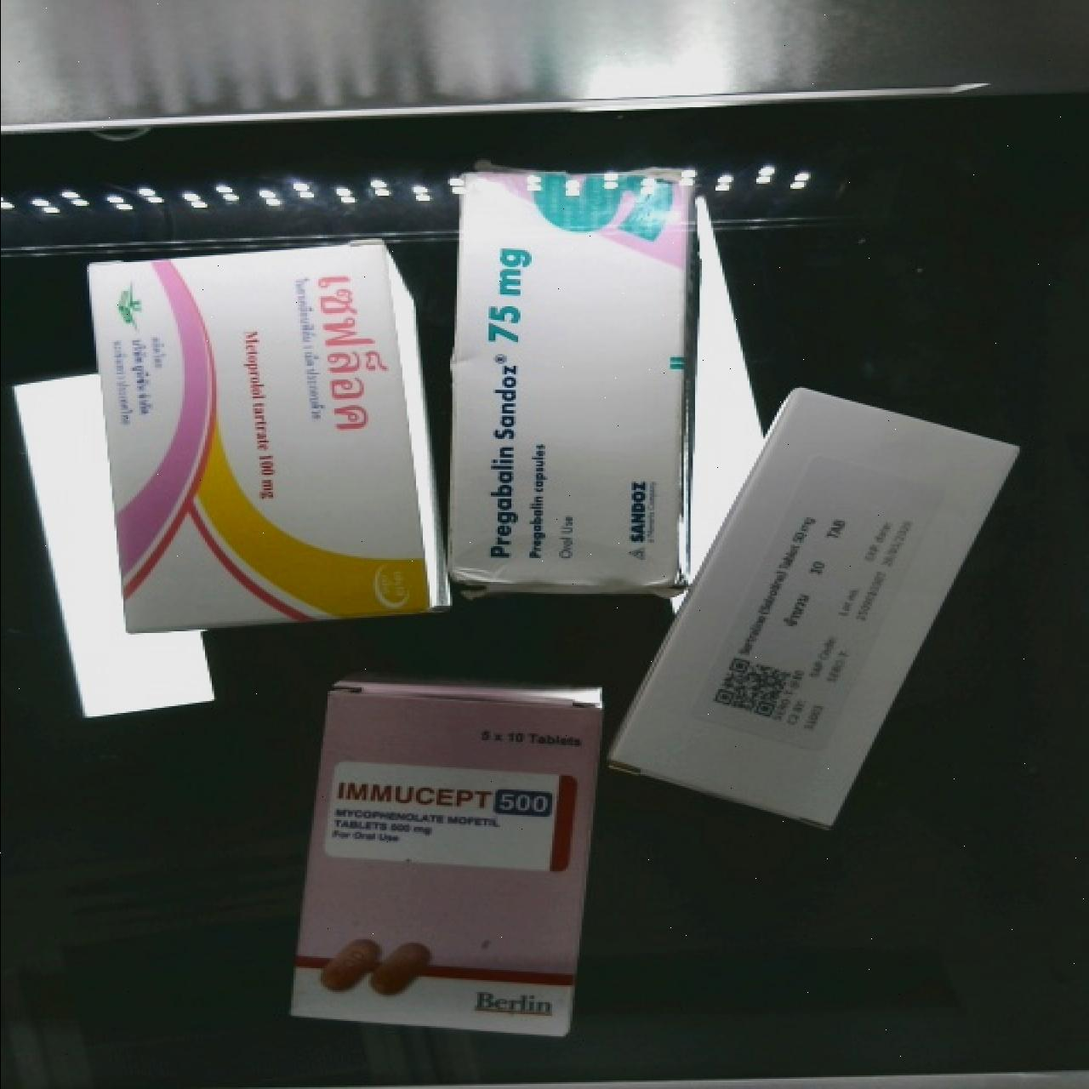medicine_label_obb: (457, 234, 545, 584), (297, 240, 410, 462), (320, 766, 575, 831)
qr_code: (695, 614, 829, 752)
